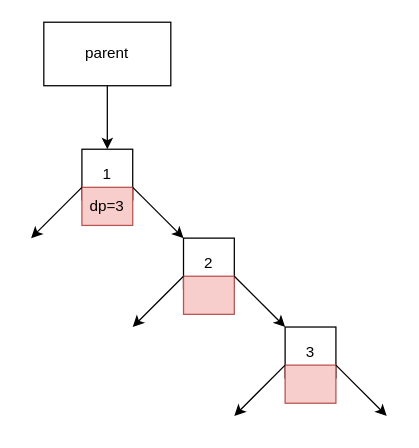
The diagram is 419 pixels wide and 448 high, and some of its shapes have lost their labels. The shapes that lost their labels are listed below. From the top down, each one's centre as x and y in pixels, then its label:
At point 208,294: "dp=2".
At point 310,383: "dp=1".
